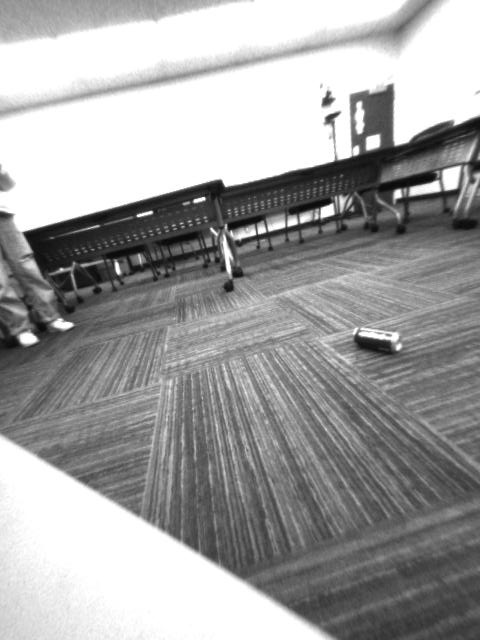can: (354, 320, 402, 354)
